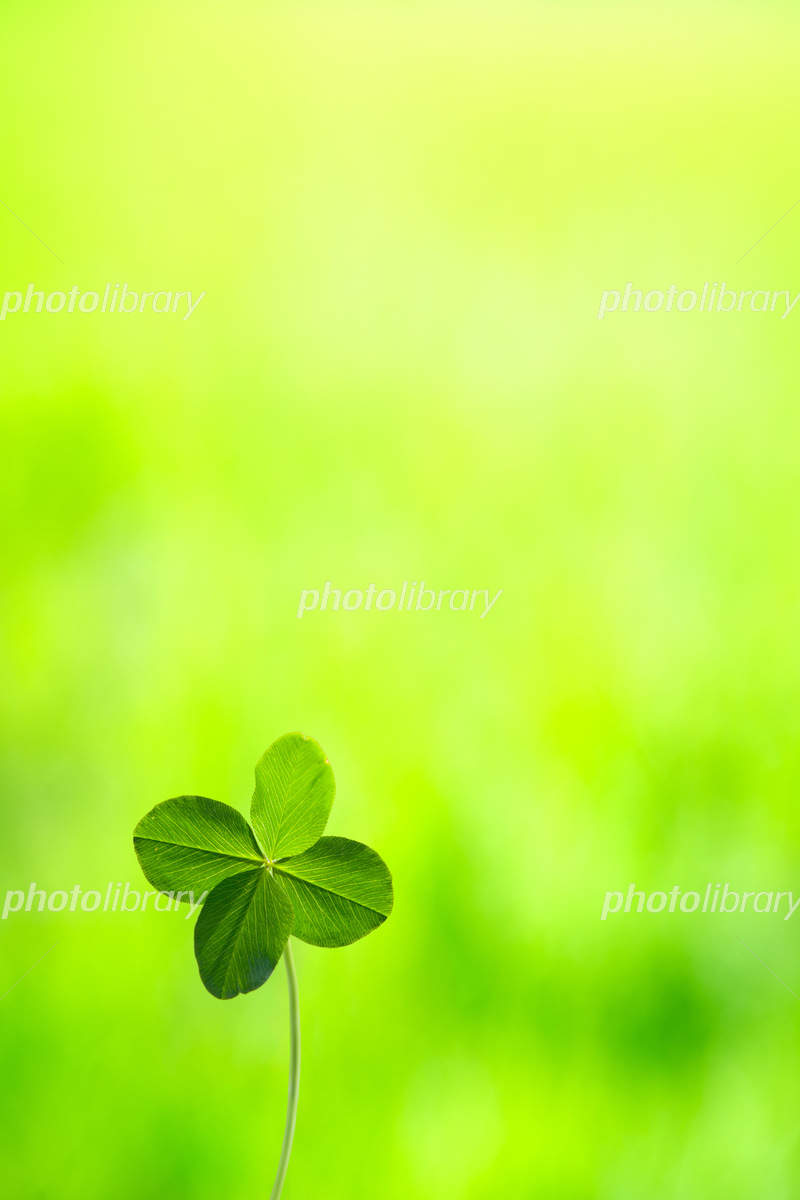daikon: (108, 701, 432, 1025)
